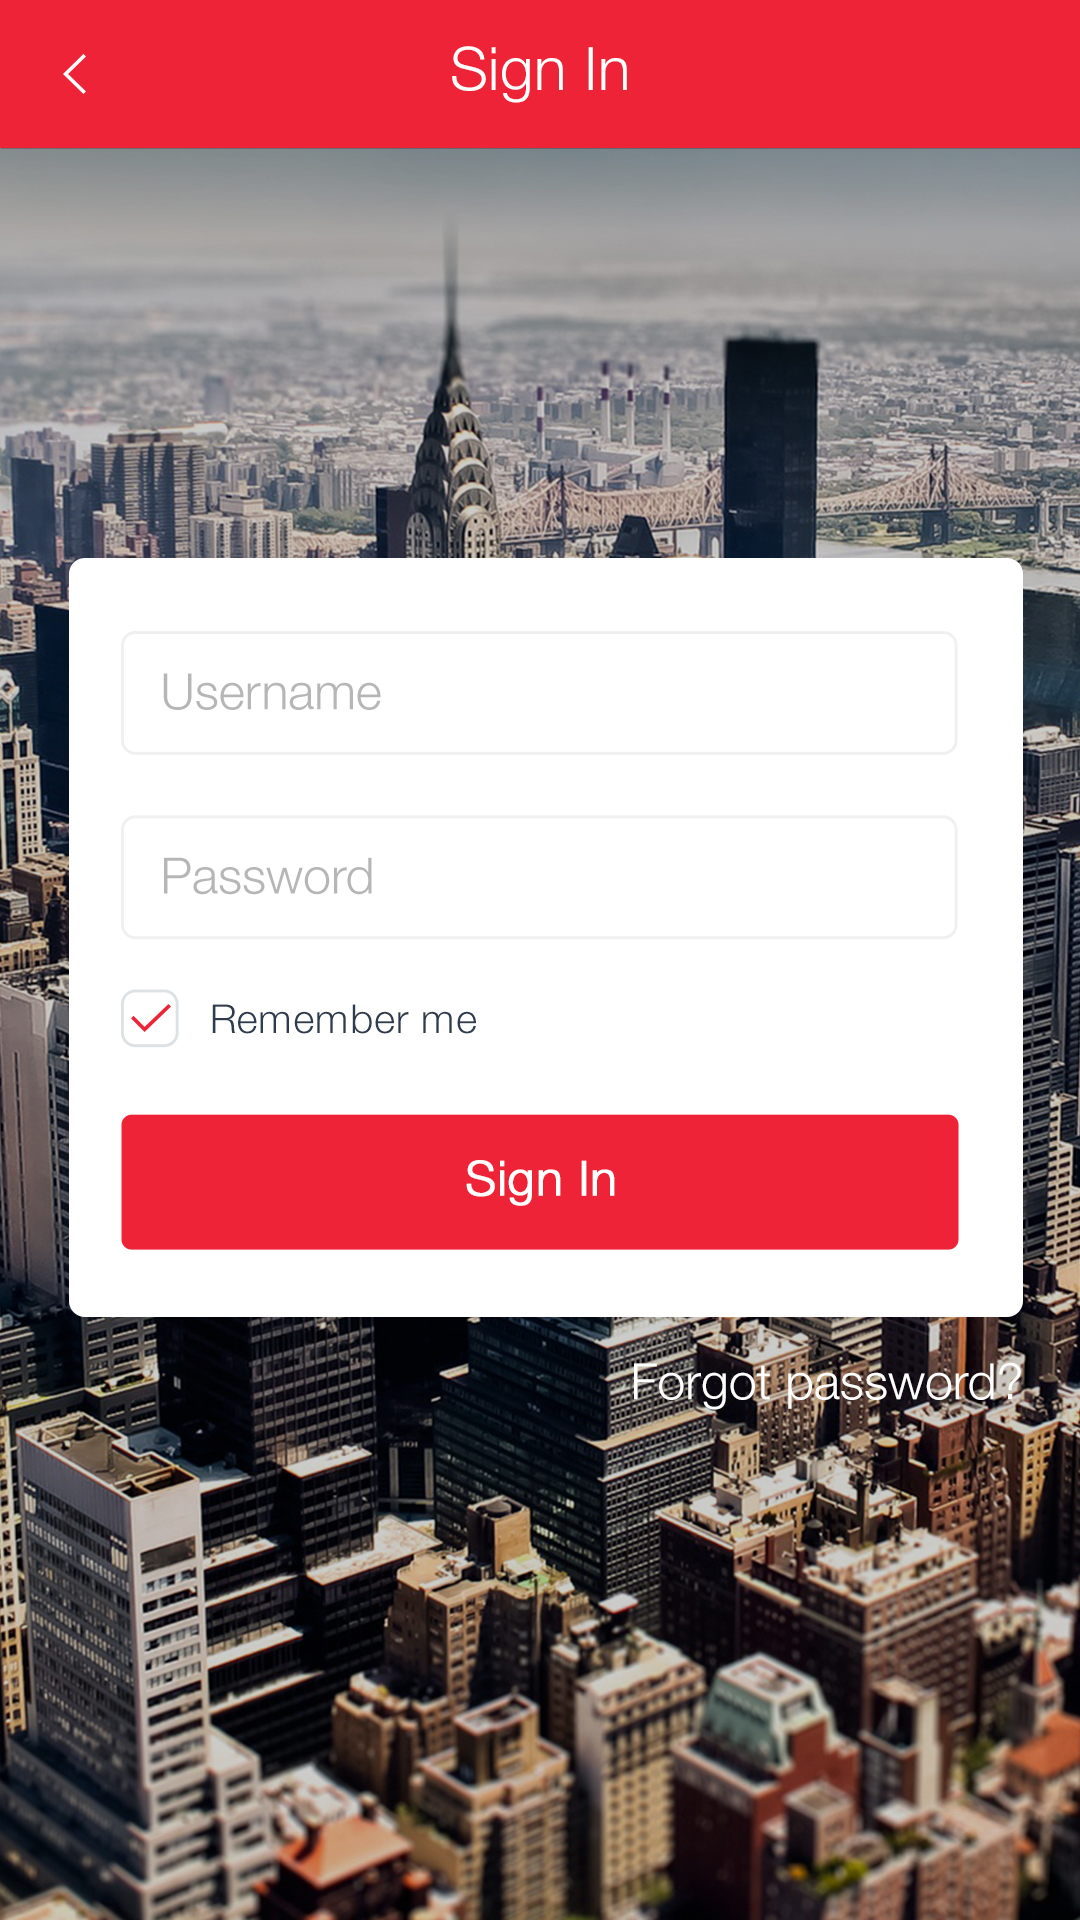BackgroundImage: (1, 149, 1080, 1920)
CheckedTextView: (121, 989, 477, 1048)
EditText: (121, 815, 957, 940), (121, 632, 959, 756)
Icon: (63, 54, 88, 96)
Text: (633, 1362, 1022, 1411), (451, 46, 628, 105), (214, 1004, 477, 1036), (164, 673, 382, 711), (164, 857, 375, 895)
TextButton: (121, 1114, 960, 1251)
